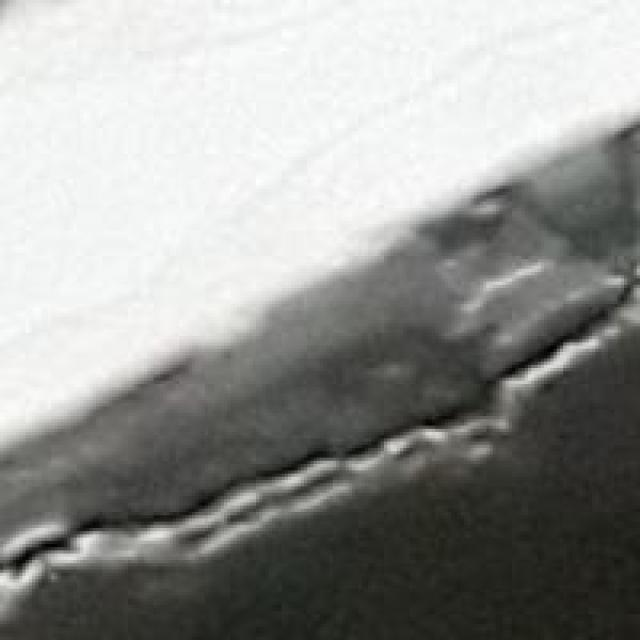crack: (0, 282, 637, 636)
